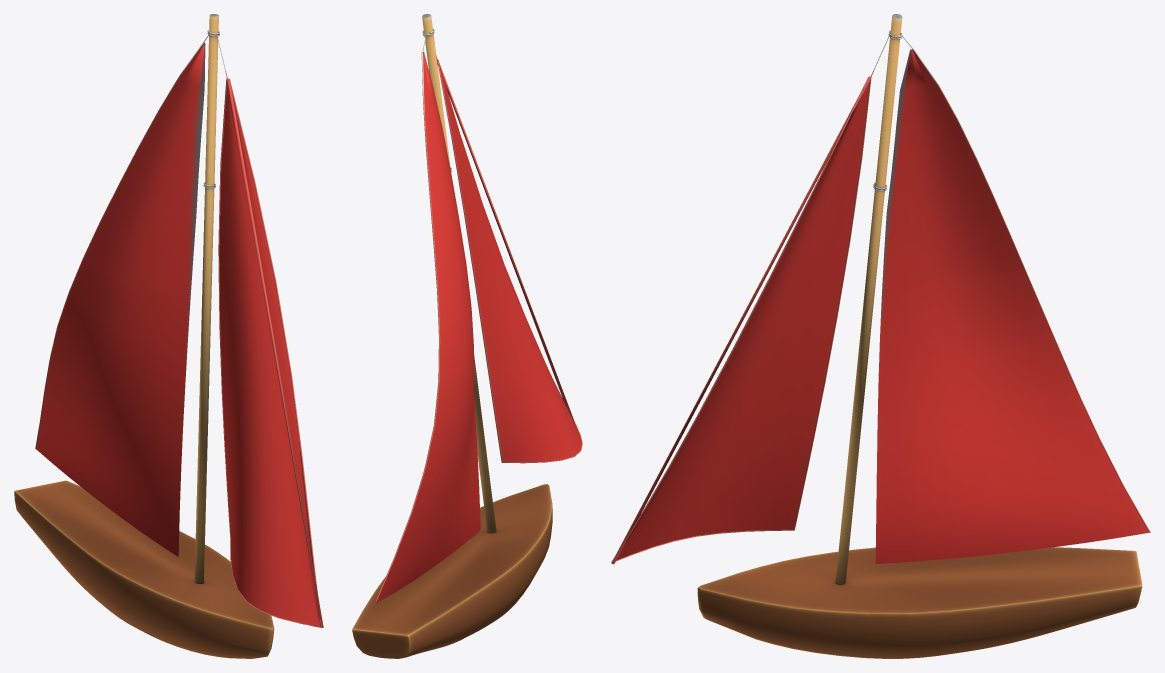
The model's file is 3D_Boat.FBX.
3 renders of one model, left to right at view 1: azimuth 30°, elevation 25°; view 2: azimuth 150°, elevation 25°; view 3: azimuth 270°, elevation 25°, orthographic. The views are drawn at different scales.
Parts seen in each view (by area): view 1: 3D_Boat; view 2: 3D_Boat; view 3: 3D_Boat.
Boxes of the visible parts, x1,y1,x2,y2 form: 3D_Boat: [14, 14, 323, 658]; 3D_Boat: [352, 14, 582, 658]; 3D_Boat: [611, 14, 1150, 658].
Bounding box in the file's own units: 9.36 × 49.09 × 36.34.
